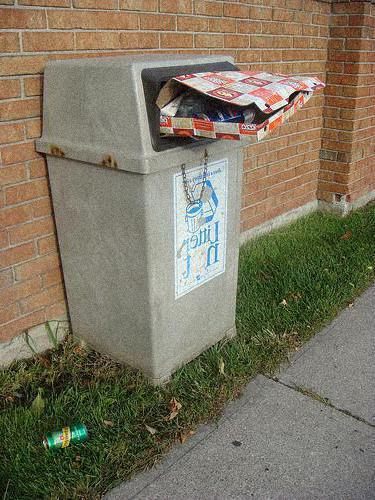Bote de Basura: (39, 51, 236, 353)
